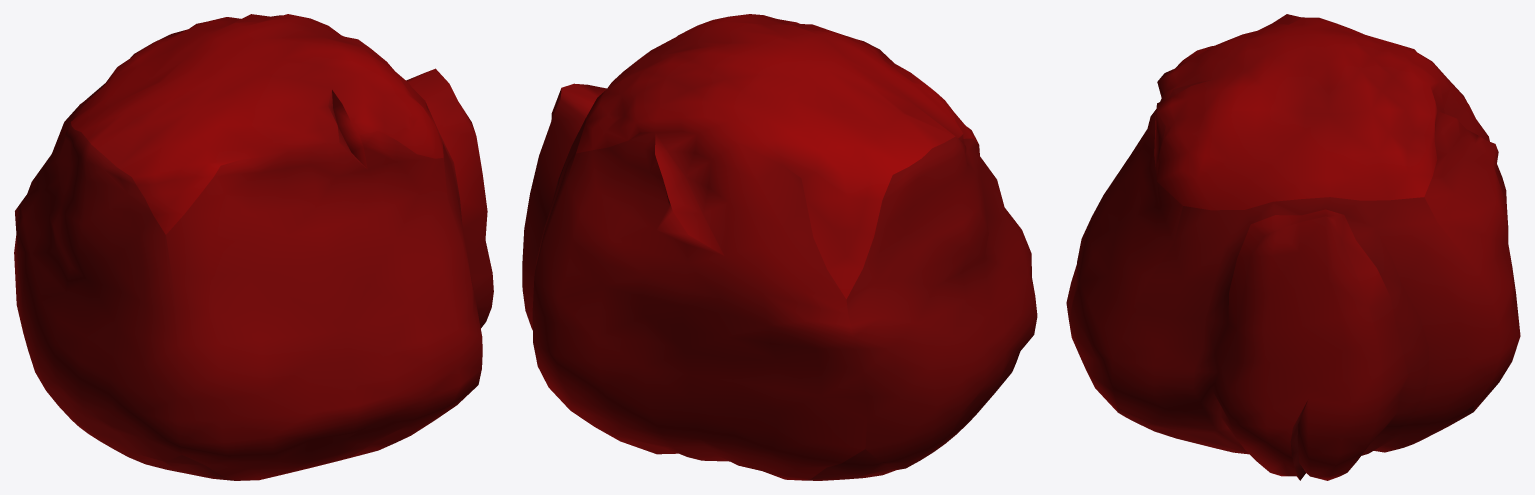
The model's file is geology-rocks-rockhuge_v9.fbx.
The picture shows the model from 3 angles, left to right: view 1: azimuth 30°, elevation 25°; view 2: azimuth 150°, elevation 25°; view 3: azimuth 270°, elevation 25°; orthographic projection. The views are drawn at different scales.
Parts seen in each view (by area): view 1: RockHuge_v9; view 2: RockHuge_v9; view 3: RockHuge_v9.
Part boxes in pixels (left/top/right/bottom): RockHuge_v9: left=14, top=14, right=493, bottom=480; RockHuge_v9: left=522, top=14, right=1037, bottom=480; RockHuge_v9: left=1066, top=14, right=1520, bottom=480.
Size of the model in its own units: 26.86 by 22.32 by 25.53.
